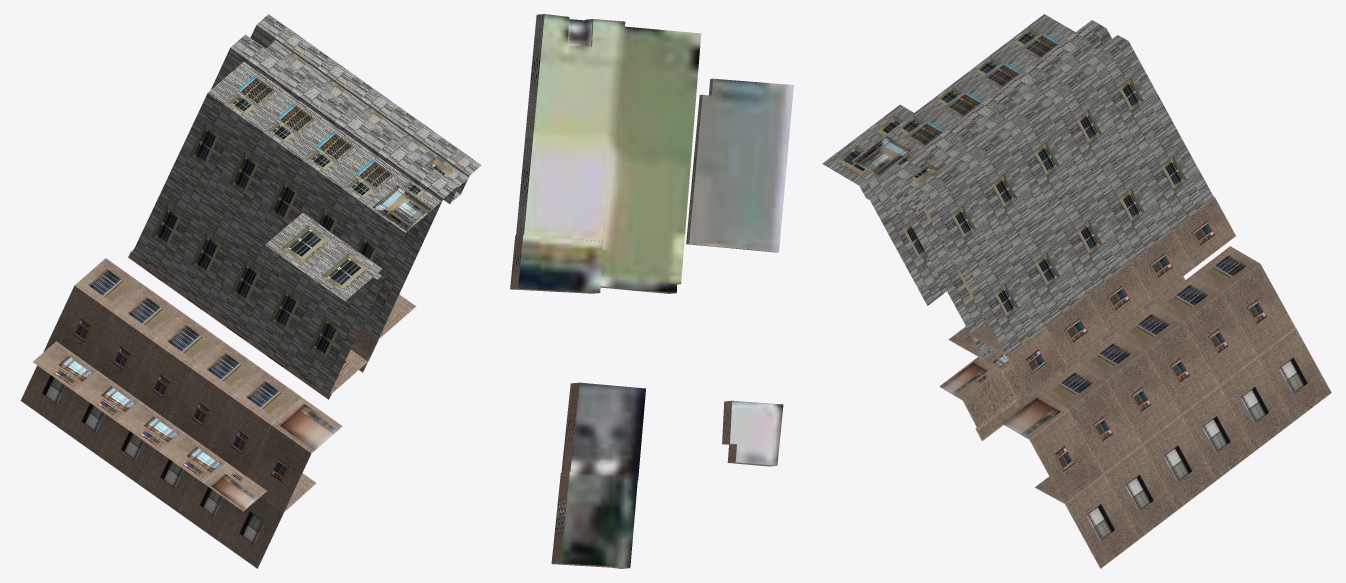
3 renders of one model, left to right at view 1: azimuth 30°, elevation 25°; view 2: azimuth 150°, elevation 25°; view 3: azimuth 270°, elevation 25°, orthographic. The views are drawn at different scales.
Bounding box in the file's own units: 26.25 × 38.09 × 33.26.
Materials: 33 (33 with a texture image).
